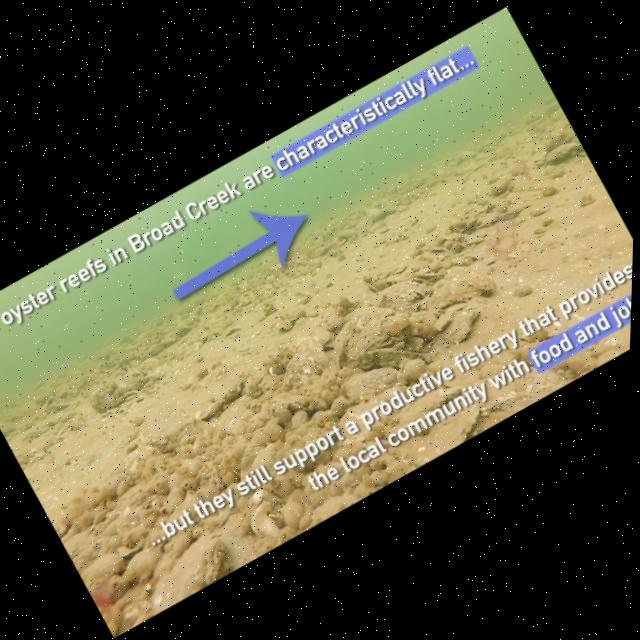Oyster-Closed: (443, 142, 483, 177)
Oyster-Indeterminate: (391, 387, 501, 472), (410, 242, 506, 322), (165, 525, 256, 601), (367, 322, 443, 387), (336, 353, 410, 417), (268, 344, 334, 405), (365, 268, 432, 328), (134, 401, 200, 461), (206, 388, 265, 443), (283, 321, 338, 379), (110, 536, 172, 587), (241, 492, 295, 545), (433, 303, 488, 351), (113, 436, 165, 482), (79, 544, 128, 590), (539, 135, 588, 177), (85, 377, 132, 420), (207, 372, 255, 411), (97, 594, 136, 638), (583, 338, 628, 373), (185, 394, 225, 432), (560, 343, 598, 382), (482, 169, 523, 204), (536, 121, 575, 156), (67, 536, 106, 570), (361, 197, 402, 229), (446, 244, 485, 277), (113, 530, 151, 562), (509, 274, 543, 309), (47, 388, 84, 417), (472, 207, 507, 237), (29, 383, 62, 411), (269, 252, 301, 279), (115, 361, 145, 389), (296, 254, 328, 280), (587, 332, 618, 358), (484, 193, 513, 220), (332, 220, 361, 246), (425, 236, 454, 262), (457, 226, 485, 252), (171, 319, 199, 344), (446, 213, 474, 237), (181, 340, 209, 362), (538, 179, 563, 203), (442, 224, 468, 247), (204, 321, 231, 342), (188, 325, 212, 348), (52, 516, 74, 540), (577, 189, 601, 211), (313, 239, 338, 259), (441, 235, 464, 255), (122, 376, 144, 395), (143, 341, 165, 359), (159, 334, 179, 352), (31, 377, 52, 394), (117, 330, 136, 348), (190, 337, 205, 353)
Oyster-Open: (320, 299, 407, 376), (135, 366, 167, 391), (124, 387, 141, 402)
